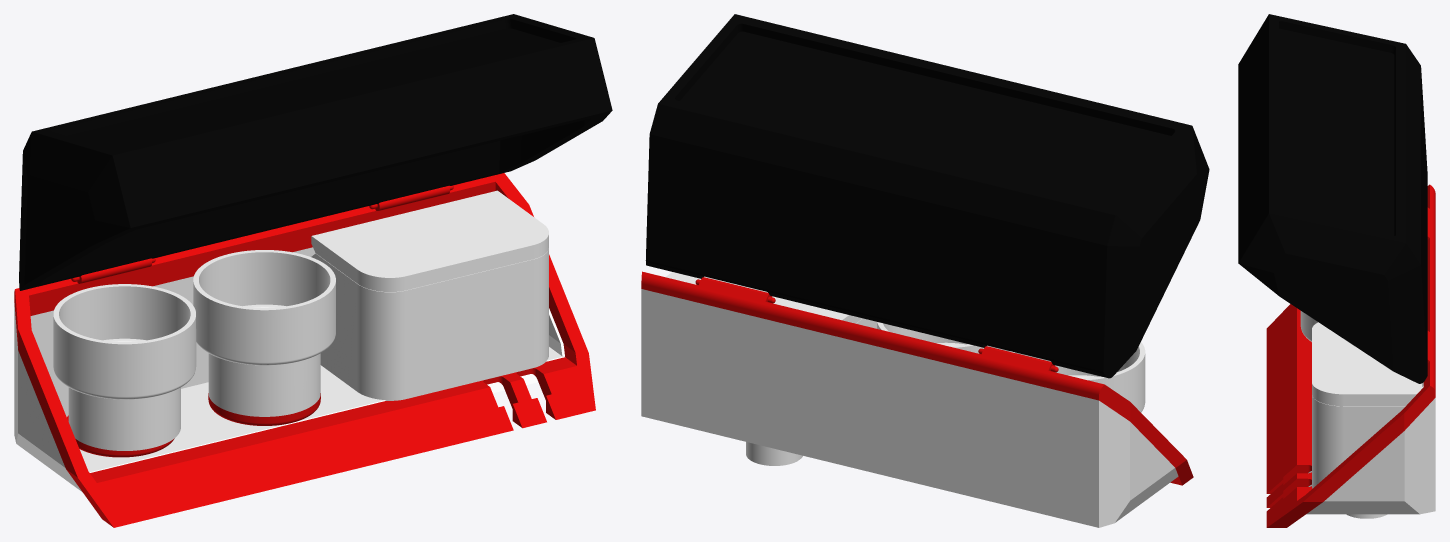
Rendered from sp2 dve animation oop.glb.
3 renders of one model, left to right at view 1: azimuth 30°, elevation 25°; view 2: azimuth 150°, elevation 25°; view 3: azimuth 270°, elevation 25°, orthographic. The views are drawn at different scales.
Parts seen in each view (by area): view 1: Default_F242FD89_F563_4C78_B2BE_EF374EB46367_, Default_3A6377EA_8928_4010_825E_F35E6D3ECE56_, Default_0F05A3C0_C240_449B_8DEF_38D4D7C79C96_, Default_70B36A46_8C05_4CD2_8E0B_002546DF59B1_, Default_0CC06295_5172_4832_B3A9_EDF41557AFD6_, Layer_01_E31F888F_E752_4BF8_9B68_8456BB9988E8_, Default_435E7F2D_E64F_483D_B2AC_8ECBCA78B99E_, Default_80436E60_0DA0_40E1_B132_B9B8B7342DBD_; view 2: Default_F242FD89_F563_4C78_B2BE_EF374EB46367_, Default_435E7F2D_E64F_483D_B2AC_8ECBCA78B99E_, Default_3A6377EA_8928_4010_825E_F35E6D3ECE56_, Default_70B36A46_8C05_4CD2_8E0B_002546DF59B1_, Default_0F05A3C0_C240_449B_8DEF_38D4D7C79C96_, Layer_01_E31F888F_E752_4BF8_9B68_8456BB9988E8_, Default_0CC06295_5172_4832_B3A9_EDF41557AFD6_; view 3: Default_F242FD89_F563_4C78_B2BE_EF374EB46367_, Default_3A6377EA_8928_4010_825E_F35E6D3ECE56_, Default_435E7F2D_E64F_483D_B2AC_8ECBCA78B99E_, Layer_01_E31F888F_E752_4BF8_9B68_8456BB9988E8_, Default_0F05A3C0_C240_449B_8DEF_38D4D7C79C96_, Default_0CC06295_5172_4832_B3A9_EDF41557AFD6_.
Part boxes in pixels (left/top/right/bottom): Default_F242FD89_F563_4C78_B2BE_EF374EB46367_: left=19, top=14, right=612, bottom=290; Default_3A6377EA_8928_4010_825E_F35E6D3ECE56_: left=14, top=173, right=595, bottom=527; Default_0F05A3C0_C240_449B_8DEF_38D4D7C79C96_: left=311, top=249, right=548, bottom=400; Default_70B36A46_8C05_4CD2_8E0B_002546DF59B1_: left=53, top=284, right=196, bottom=450; Default_0CC06295_5172_4832_B3A9_EDF41557AFD6_: left=193, top=250, right=335, bottom=416; Layer_01_E31F888F_E752_4BF8_9B68_8456BB9988E8_: left=311, top=190, right=548, bottom=291; Default_435E7F2D_E64F_483D_B2AC_8ECBCA78B99E_: left=14, top=247, right=564, bottom=491; Default_80436E60_0DA0_40E1_B132_B9B8B7342DBD_: left=208, top=393, right=320, bottom=425; Default_F242FD89_F563_4C78_B2BE_EF374EB46367_: left=645, top=14, right=1209, bottom=378; Default_435E7F2D_E64F_483D_B2AC_8ECBCA78B99E_: left=641, top=289, right=1178, bottom=527; Default_3A6377EA_8928_4010_825E_F35E6D3ECE56_: left=641, top=271, right=1193, bottom=485; Default_70B36A46_8C05_4CD2_8E0B_002546DF59B1_: left=1009, top=342, right=1145, bottom=412; Default_0F05A3C0_C240_449B_8DEF_38D4D7C79C96_: left=746, top=318, right=876, bottom=465; Layer_01_E31F888F_E752_4BF8_9B68_8456BB9988E8_: left=665, top=272, right=862, bottom=323; Default_0CC06295_5172_4832_B3A9_EDF41557AFD6_: left=877, top=322, right=1009, bottom=353; Default_F242FD89_F563_4C78_B2BE_EF374EB46367_: left=1238, top=14, right=1427, bottom=383; Default_3A6377EA_8928_4010_825E_F35E6D3ECE56_: left=1266, top=184, right=1435, bottom=527; Default_435E7F2D_E64F_483D_B2AC_8ECBCA78B99E_: left=1306, top=386, right=1435, bottom=514; Layer_01_E31F888F_E752_4BF8_9B68_8456BB9988E8_: left=1312, top=322, right=1423, bottom=406; Default_0F05A3C0_C240_449B_8DEF_38D4D7C79C96_: left=1312, top=396, right=1405, bottom=518; Default_0CC06295_5172_4832_B3A9_EDF41557AFD6_: left=1300, top=311, right=1317, bottom=341.
Bounding box in the file's own units: 214 × 159 × 84.31.
